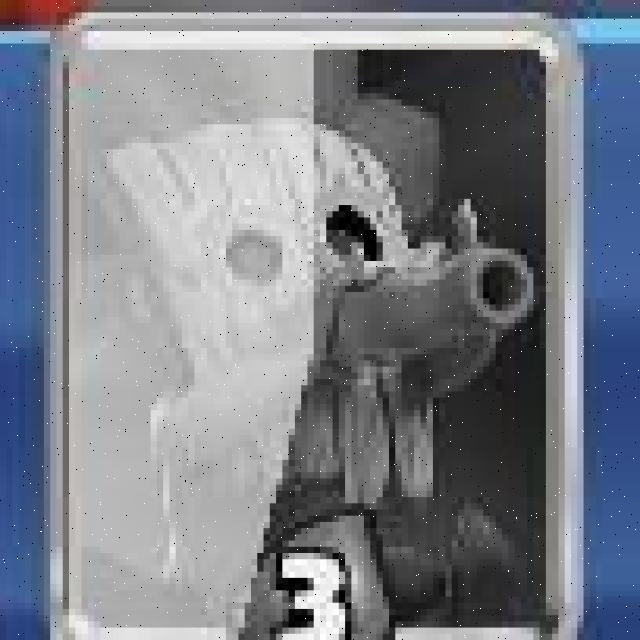Dart_Goblin: (43, 10, 589, 640)
